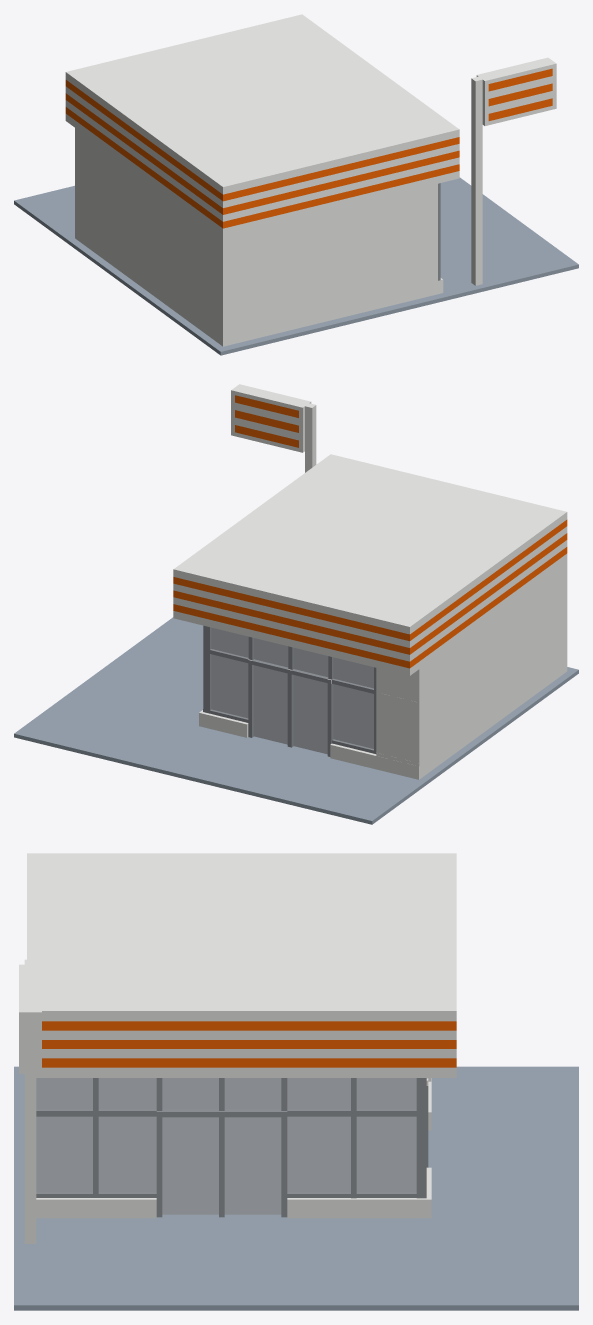
Rendered from market.glb.
The picture shows the model from 3 angles, top to bottom: view 1: azimuth 30°, elevation 25°; view 2: azimuth 150°, elevation 25°; view 3: azimuth 270°, elevation 25°; orthographic projection. The views are drawn at different scales.
Visible parts, largest first — view 1: Market; view 2: Market; view 3: Market.
Part boxes in pixels (left/top/right/bottom): Market: left=14, top=14, right=578, bottom=355; Market: left=14, top=384, right=578, bottom=824; Market: left=14, top=853, right=578, bottom=1310.
Size of the model in its own units: 10 by 5.61 by 10.
